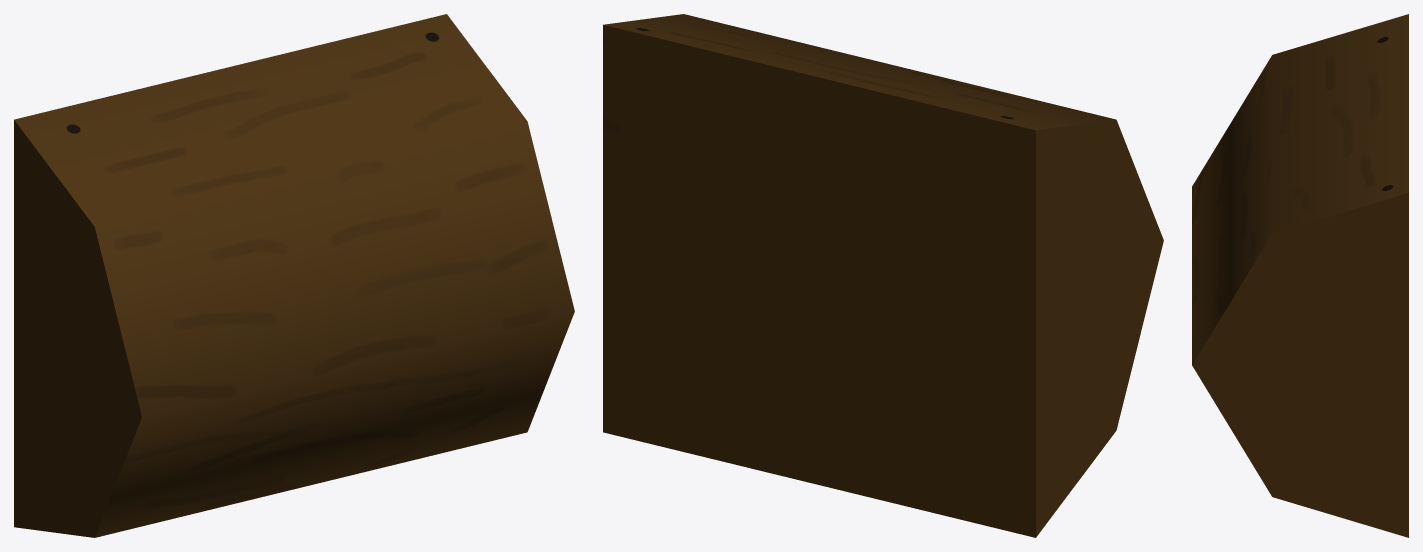
The model's file is BridgeBorderEndV2.fbx.
3 views of the same model, side by side, from view 1: azimuth 30°, elevation 25°; view 2: azimuth 150°, elevation 25°; view 3: azimuth 270°, elevation 25° (orthographic). The views are drawn at different scales.
Parts seen in each view (by area): view 1: BridgeBorderEndV2; view 2: BridgeBorderEndV2; view 3: BridgeBorderEndV2.
Boxes of the visible parts, <box> form: BridgeBorderEndV2: <box>14,14,574,537</box>; BridgeBorderEndV2: <box>603,14,1163,537</box>; BridgeBorderEndV2: <box>1192,14,1408,537</box>.
Bounding box in the file's own units: 100 × 90 × 51.25.
1 material, 1 textured.
